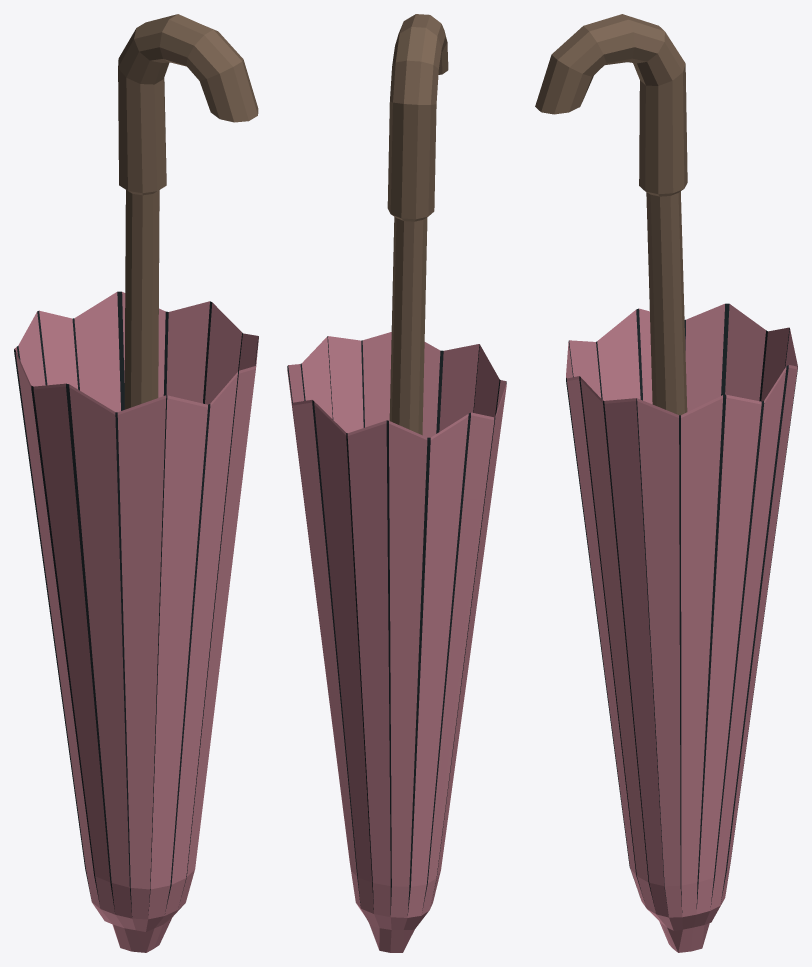
File: Closed_Umbrella_1.fbx
3 views of the same model, side by side, from view 1: azimuth 30°, elevation 25°; view 2: azimuth 150°, elevation 25°; view 3: azimuth 270°, elevation 25° (orthographic). The views are drawn at different scales.
Parts seen in each view (by area): view 1: Closed_Umbrella_1; view 2: Closed_Umbrella_1; view 3: Closed_Umbrella_1.
Part boxes in pixels (left/top/right/bottom): Closed_Umbrella_1: left=14, top=14, right=258, bottom=952; Closed_Umbrella_1: left=287, top=14, right=506, bottom=952; Closed_Umbrella_1: left=535, top=14, right=797, bottom=952.
Bounding box in the file's own units: 24.07 × 26.89 × 105.
